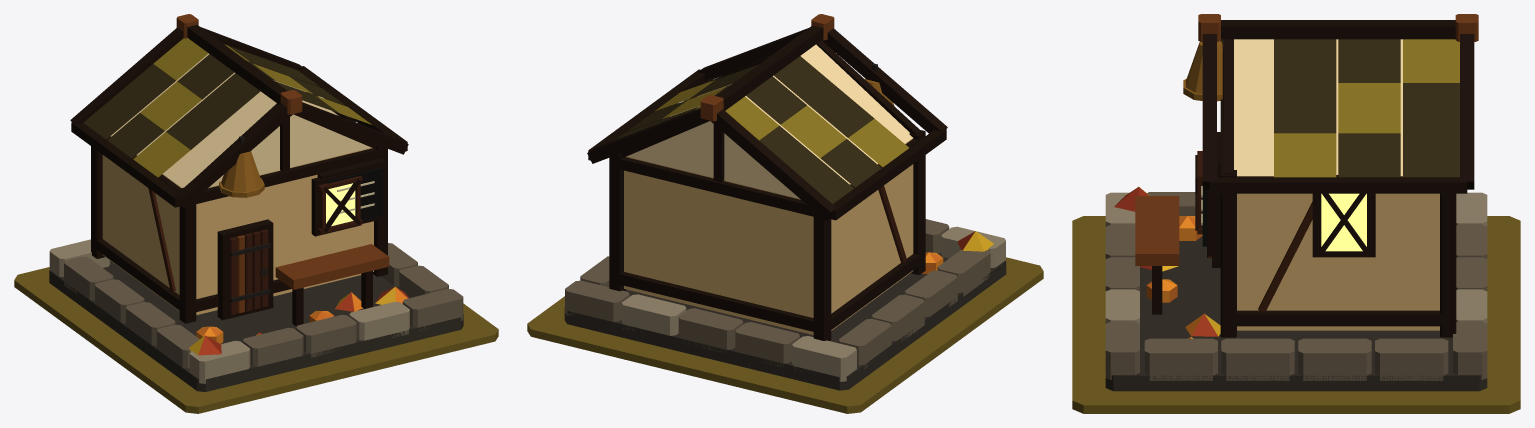
File: schoolroom_t1.glb
The picture shows the model from 3 angles, left to right: view 1: azimuth 30°, elevation 25°; view 2: azimuth 150°, elevation 25°; view 3: azimuth 270°, elevation 25°; orthographic projection. The views are drawn at different scales.
Visible parts, largest first — view 1: MMR | schoolroom | T01 Architecture.001, MMR | schoolroom | Tier 01 Ground.001, MMR | schoolroom | T01 Autumn Dressing.001; view 2: MMR | schoolroom | T01 Architecture.001, MMR | schoolroom | Tier 01 Ground.001, MMR | schoolroom | T01 Autumn Dressing.001; view 3: MMR | schoolroom | T01 Architecture.001, MMR | schoolroom | Tier 01 Ground.001, MMR | schoolroom | T01 Autumn Dressing.001.
Boxes of the visible parts, <box> form: MMR | schoolroom | T01 Architecture.001: <box>49,14,463,391</box>; MMR | schoolroom | Tier 01 Ground.001: <box>14,267,498,413</box>; MMR | schoolroom | T01 Autumn Dressing.001: <box>188,286,408,355</box>; MMR | schoolroom | T01 Architecture.001: <box>564,14,1006,390</box>; MMR | schoolroom | Tier 01 Ground.001: <box>527,257,1043,413</box>; MMR | schoolroom | T01 Autumn Dressing.001: <box>922,231,993,273</box>; MMR | schoolroom | T01 Architecture.001: <box>1105,14,1487,391</box>; MMR | schoolroom | Tier 01 Ground.001: <box>1072,216,1520,413</box>; MMR | schoolroom | T01 Autumn Dressing.001: <box>1114,186,1220,338</box>.
Size of the model in its own units: 2.35 by 1.74 by 2.35.
2 materials, 1 textured.
